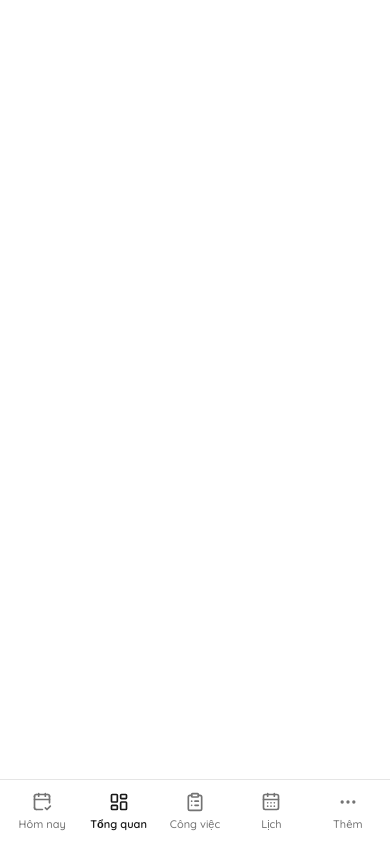
Test: MobileBottomNav Component › opens More sheet when Thêm is clicked and renders secondary items
This screenshot has width=390, height=844.
Click the button "Thêm": (348, 812) left=310, top=780, right=386, bottom=843
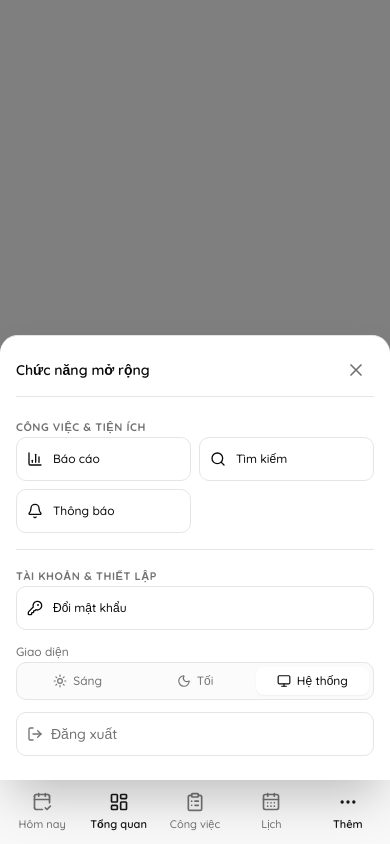
Expected: the dialog is shown, left=0, top=335, right=389, bottom=780
Expected: the link "Báo cáo" is shown, left=16, top=437, right=191, bottom=481
Expected: the link "Tìm kiếm" is shown, left=199, top=437, right=374, bottom=481
